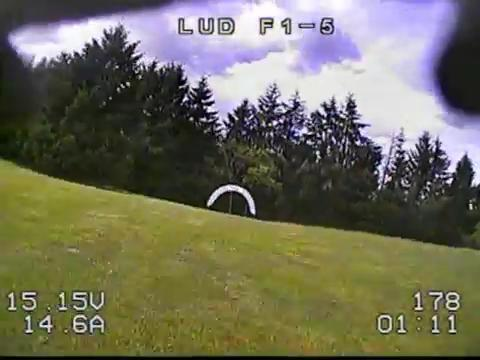gate: (206, 184, 255, 217)
